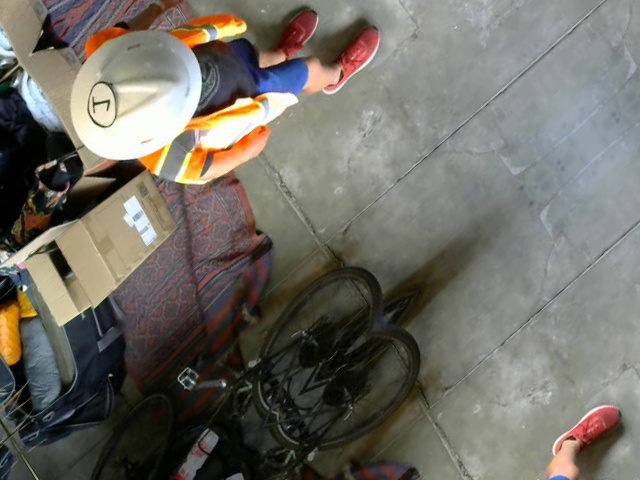one: (78, 76, 126, 134)
